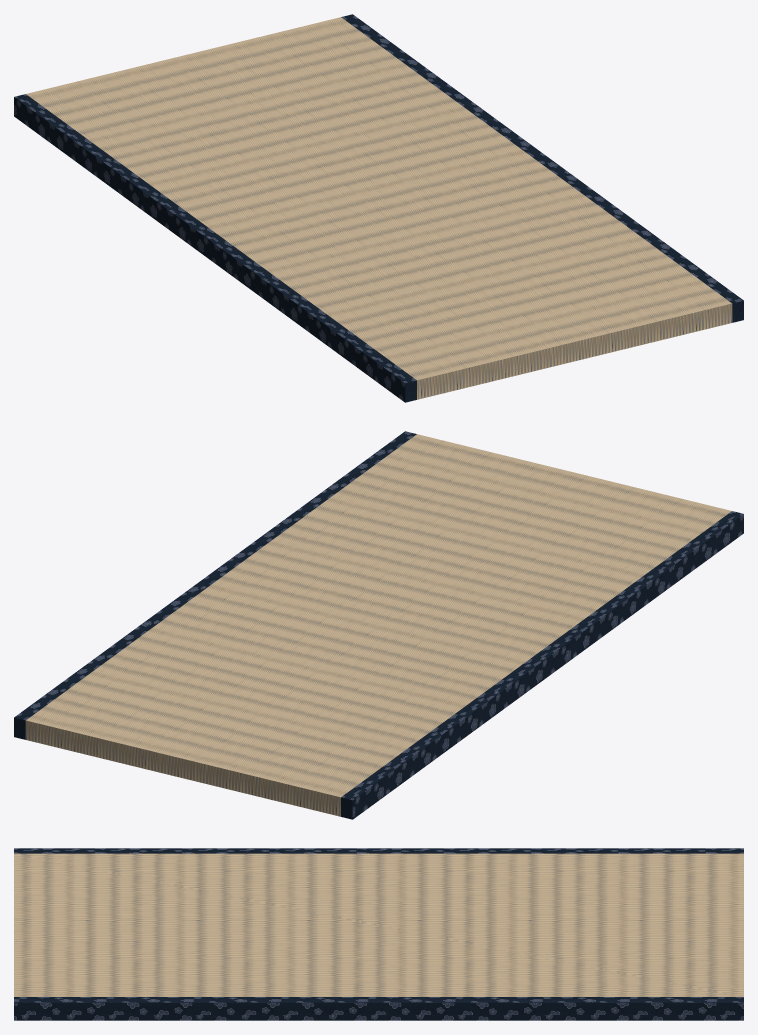
File: tatami.obj
The picture shows the model from 3 angles, top to bottom: view 1: azimuth 30°, elevation 25°; view 2: azimuth 150°, elevation 25°; view 3: azimuth 270°, elevation 25°; orthographic projection. The views are drawn at different scales.
Parts seen in each view (by area): view 1: tatami_Plane.003, tatamBorder_Plane.001; view 2: tatami_Plane.003, tatamBorder_Plane.001; view 3: tatami_Plane.003, tatamBorder_Plane.001.
Part boxes in pixels (<box>): tatami_Plane.003: <box>26,17,732,399</box>; tatamBorder_Plane.001: <box>14,14,743,402</box>; tatami_Plane.003: <box>25,434,731,816</box>; tatamBorder_Plane.001: <box>14,431,743,819</box>; tatami_Plane.003: <box>14,853,743,996</box>; tatamBorder_Plane.001: <box>14,848,743,1020</box>.
Bounding box in the file's own units: 100 × 5.5 × 200.
